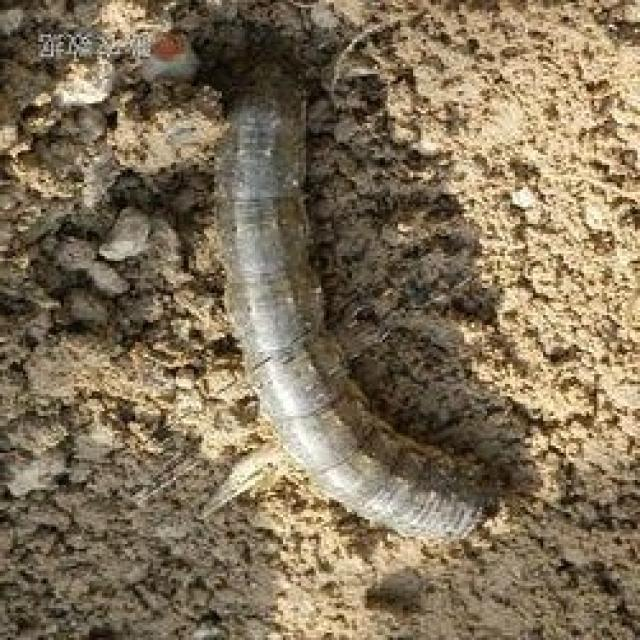black cutworm: (191, 62, 520, 555)
